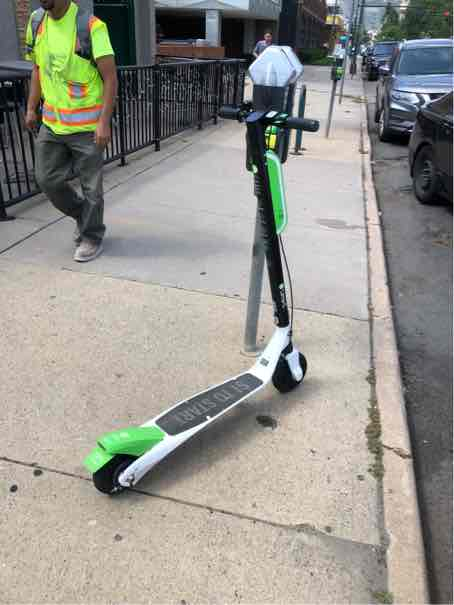scooter: (78, 103, 328, 504)
